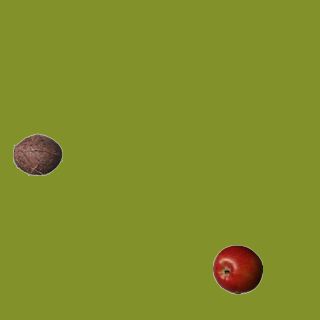Apple Braeburn: (212, 244, 262, 294)
Cocos: (12, 129, 62, 179)
